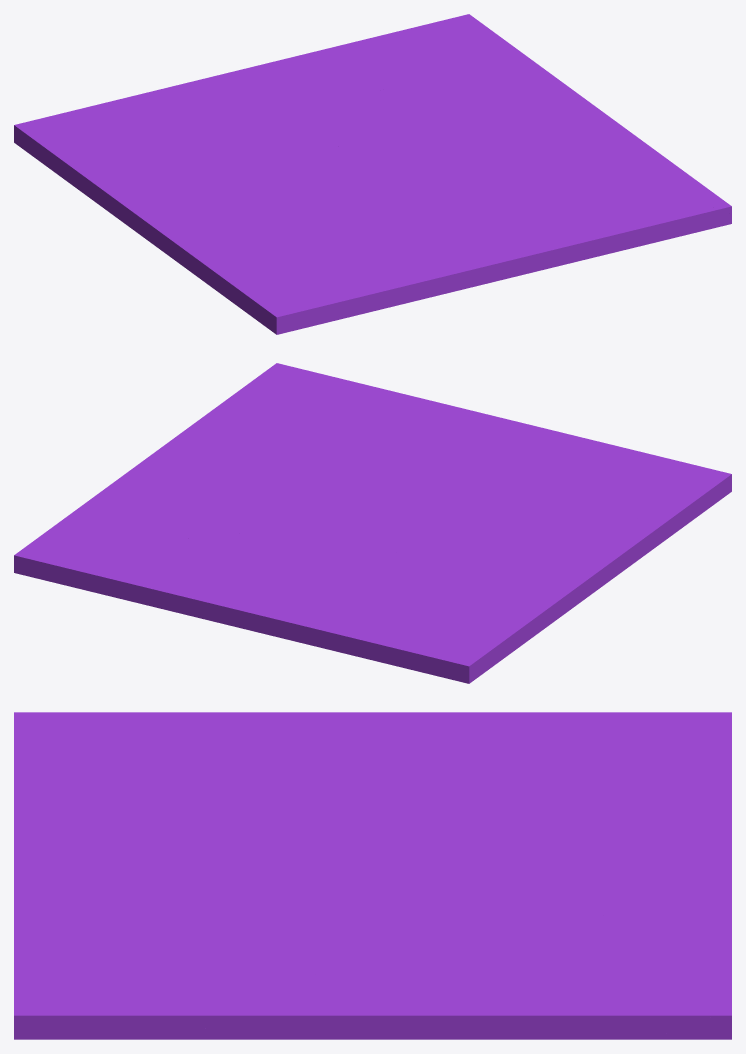
Rendered from Platform_37_chunks.fbx.
The picture shows the model from 3 angles, top to bottom: view 1: azimuth 30°, elevation 25°; view 2: azimuth 150°, elevation 25°; view 3: azimuth 270°, elevation 25°; orthographic projection. The views are drawn at different scales.
Visible parts, largest first — view 1: Platform_37_0, Platform_37_13, Platform_37_4, Platform_37_2, Platform_37_7, Platform_37_5, Platform_37_8, Platform_37_3, Platform_37_11, Platform_37_12, Platform_37_15, Platform_37_10 (+5 smaller); view 2: Platform_37_13, Platform_37_0, Platform_37_4, Platform_37_7, Platform_37_5, Platform_37_2, Platform_37_8, Platform_37_11, Platform_37_3, Platform_37_12, Platform_37_15, Platform_37_10 (+4 smaller); view 3: Platform_37_13, Platform_37_0, Platform_37_4, Platform_37_7, Platform_37_2, Platform_37_5, Platform_37_8, Platform_37_3, Platform_37_11, Platform_37_12, Platform_37_15, Platform_37_18 (+5 smaller).
Part boxes in pixels (<box>): Platform_37_0: <box>209,223,513,334</box>; Platform_37_13: <box>363,19,555,175</box>; Platform_37_4: <box>14,105,225,254</box>; Platform_37_2: <box>452,182,731,277</box>; Platform_37_7: <box>160,158,358,284</box>; Platform_37_5: <box>95,78,343,160</box>; Platform_37_8: <box>204,55,378,144</box>; Platform_37_3: <box>283,169,494,227</box>; Platform_37_11: <box>299,14,475,90</box>; Platform_37_12: <box>436,155,731,214</box>; Platform_37_15: <box>546,77,619,164</box>; Platform_37_10: <box>343,86,419,154</box>; Platform_37_13: <box>21,462,378,550</box>; Platform_37_0: <box>451,416,731,540</box>; Platform_37_4: <box>382,559,623,683</box>; Platform_37_7: <box>407,513,669,571</box>; Platform_37_5: <box>279,535,435,662</box>; Platform_37_2: <box>286,365,494,461</box>; Platform_37_8: <box>182,536,344,641</box>; Platform_37_11: <box>14,537,215,613</box>; Platform_37_3: <box>347,457,543,516</box>; Platform_37_12: <box>262,363,362,486</box>; Platform_37_15: <box>101,428,262,491</box>; Platform_37_10: <box>186,524,353,549</box>; Platform_37_13: <box>295,862,714,1039</box>; Platform_37_0: <box>14,712,260,869</box>; Platform_37_4: <box>334,712,731,793</box>; Platform_37_7: <box>184,712,488,847</box>; Platform_37_2: <box>14,864,241,1039</box>; Platform_37_5: <box>449,766,731,863</box>; Platform_37_8: <box>453,839,731,918</box>; Platform_37_3: <box>158,777,362,913</box>; Platform_37_11: <box>565,902,731,1039</box>; Platform_37_12: <box>14,888,301,1037</box>; Platform_37_15: <box>224,970,509,1039</box>; Platform_37_18: <box>182,992,401,1039</box>.
Size of the model in its own units: 810 by 29.87 by 810.
